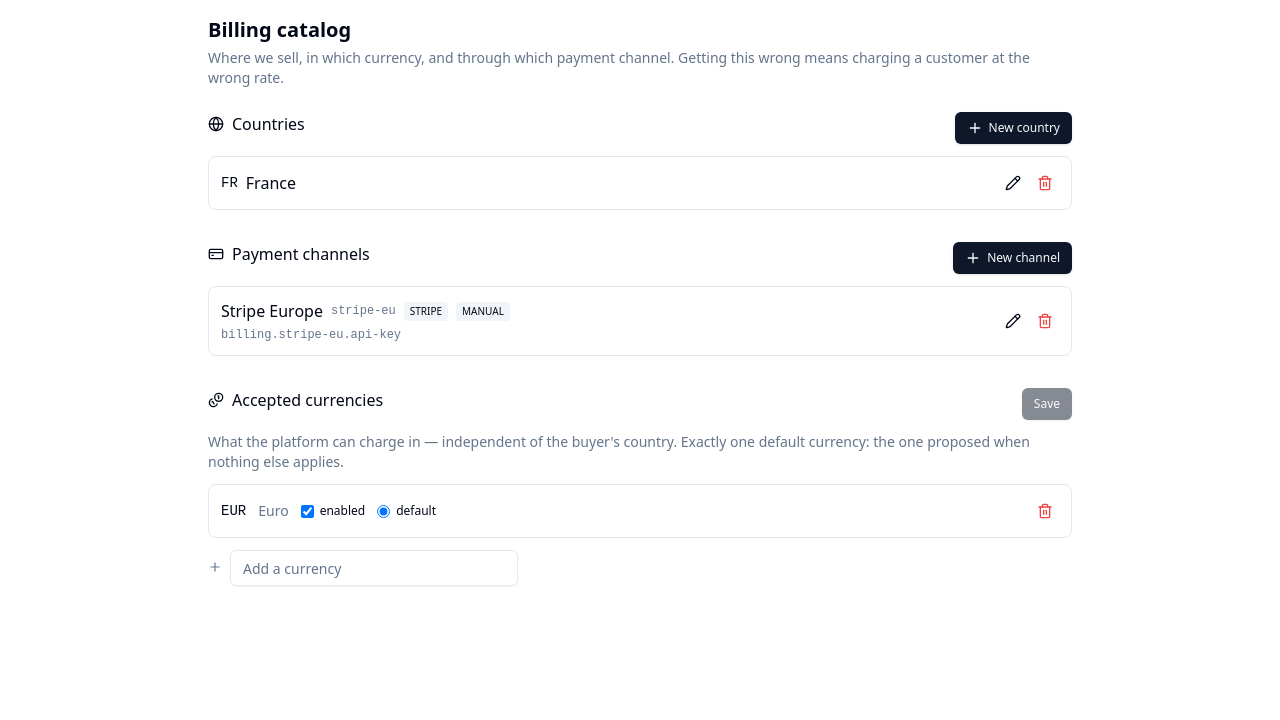
AdminBillingCatalog › rend le refus du serveur quand un canal est encore reference
Click the button named "Delete channel".
click(1045, 321)  # box [1031,307,1059,335]
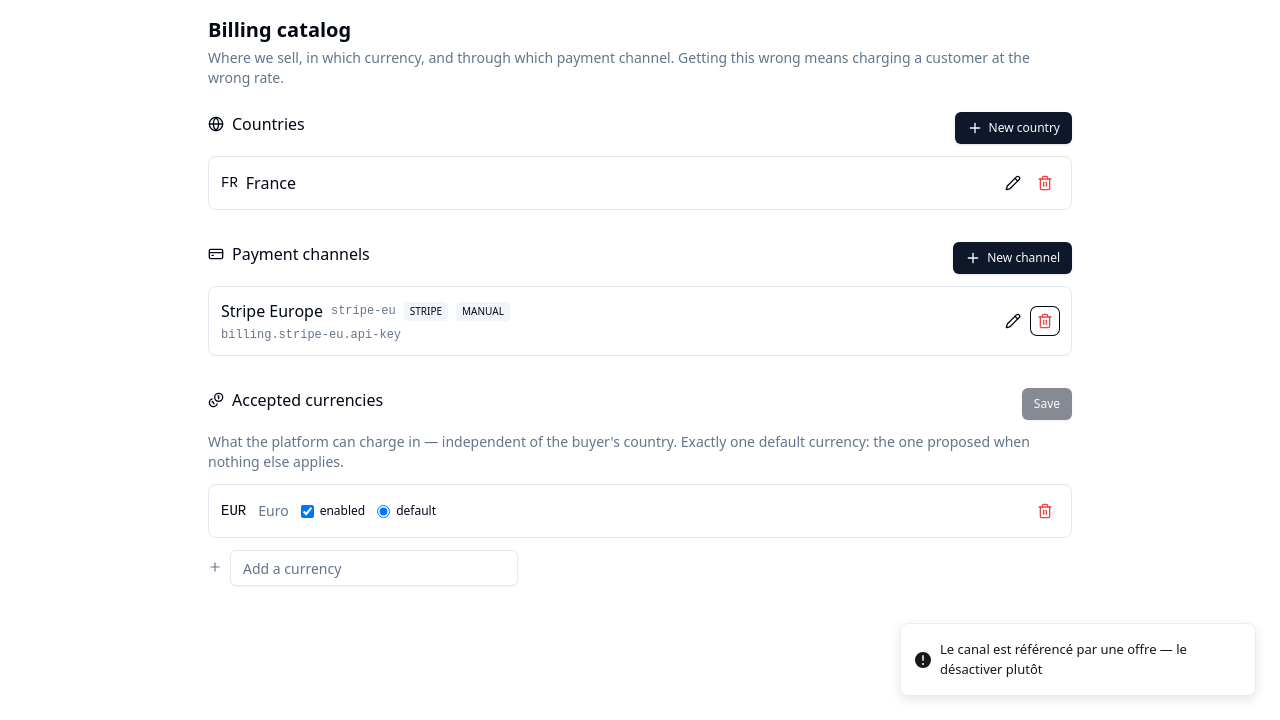
Check: the text "Le canal est référencé par une offre — le désactiver plutôt" is shown, box [940,640,1187,678]
